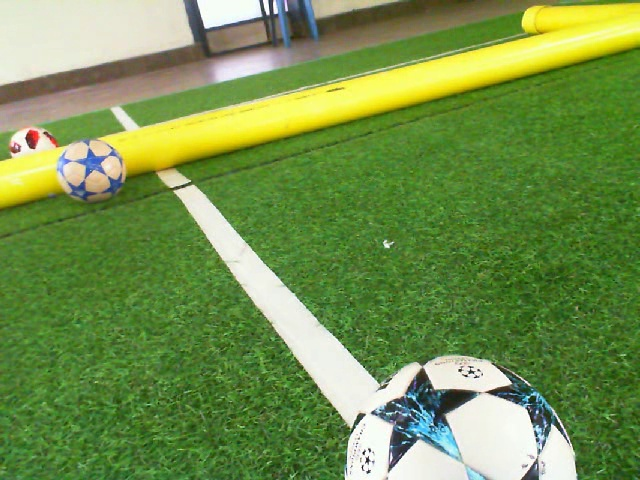ball: (343, 352, 580, 480), (56, 135, 128, 206), (7, 124, 56, 161)
